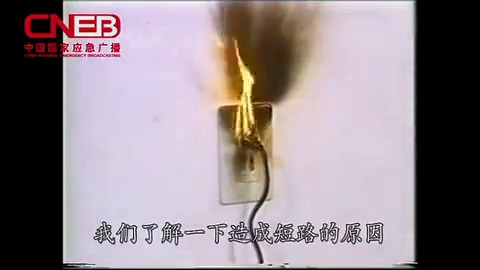fire: (225, 32, 264, 152)
